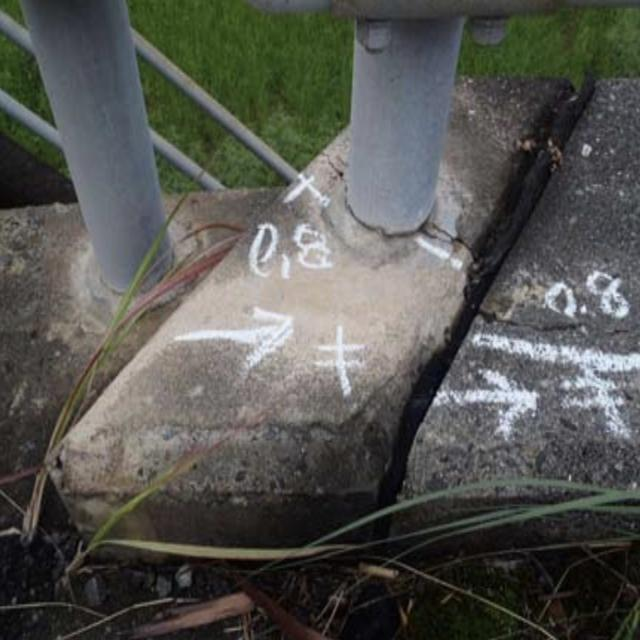crack: (480, 293, 634, 357)
